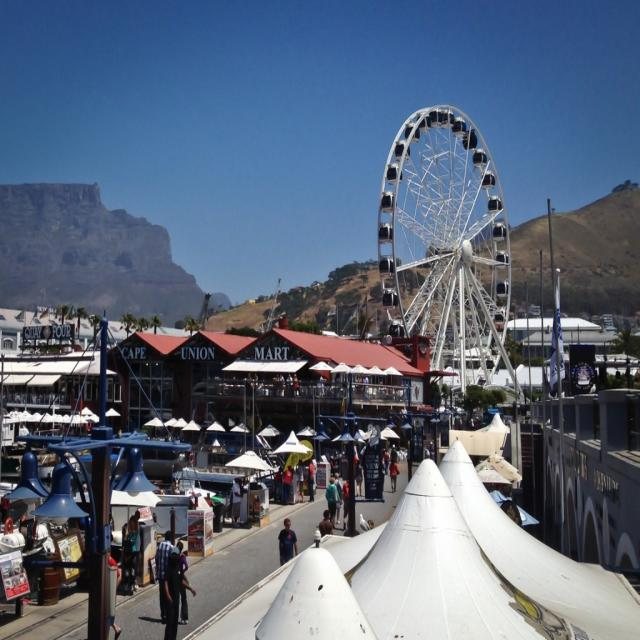body: (12, 415, 282, 495), (211, 361, 417, 404), (433, 388, 546, 432), (562, 346, 640, 405), (162, 546, 196, 640), (154, 529, 176, 626), (107, 545, 123, 640), (16, 382, 70, 406), (124, 514, 140, 594), (175, 540, 189, 627), (278, 518, 298, 566), (324, 476, 342, 526), (325, 445, 351, 477), (352, 430, 370, 465), (294, 458, 307, 503), (232, 477, 244, 524), (333, 472, 343, 524), (318, 509, 334, 538), (388, 456, 400, 494), (306, 457, 316, 502), (282, 464, 293, 504), (354, 458, 365, 498), (342, 478, 349, 531), (389, 442, 399, 478), (422, 439, 437, 463), (380, 442, 389, 476), (132, 508, 145, 522), (273, 466, 283, 484), (241, 476, 250, 492), (237, 476, 243, 491)
